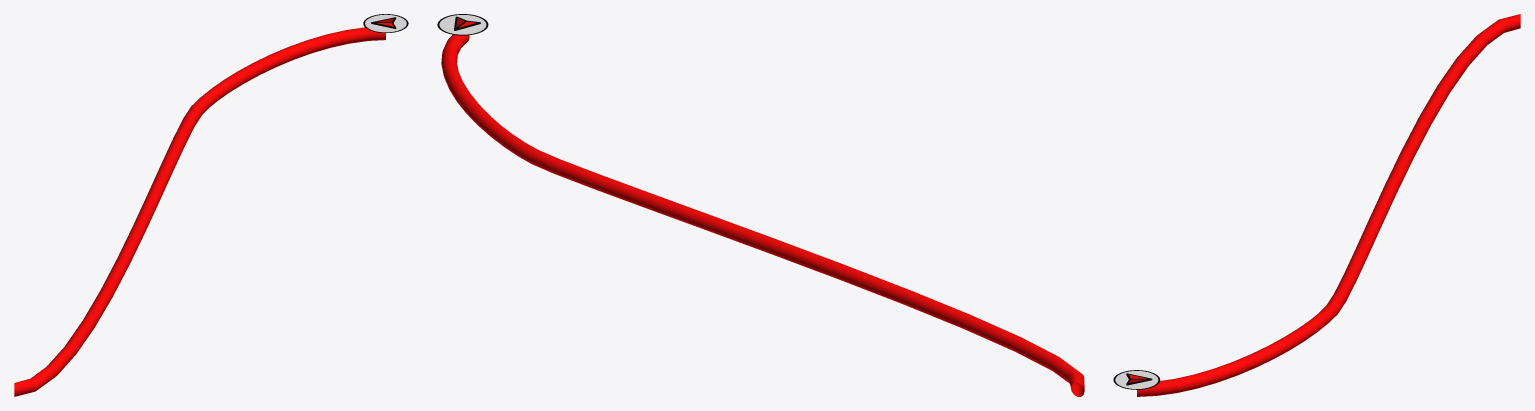
The model's file is route_cd0536da-55c6-4489-8e7c-08ee83049896_de_single.glb.
3 renders of one model, left to right at view 1: azimuth 90°, elevation 25°; view 2: azimuth 150°, elevation 25°; view 3: azimuth 270°, elevation 25°, orthographic. The views are drawn at different scales.
Parts seen in each view (by area): view 1: A3, Abteil 3, Navipfeil.049; view 2: A3, Abteil 3, Navipfeil.049; view 3: A3, Abteil 3, Navipfeil.049.
Part boxes in pixels (<box>): A3, Abteil 3: <box>14,27,385,396</box>; Navipfeil.049: <box>363,14,408,32</box>; A3, Abteil 3: <box>441,34,1084,396</box>; Navipfeil.049: <box>437,14,488,35</box>; A3, Abteil 3: <box>1137,14,1520,396</box>; Navipfeil.049: <box>1113,370,1160,389</box>.
Bounding box in the file's own units: 5 × 0.1062 × 2.25.
